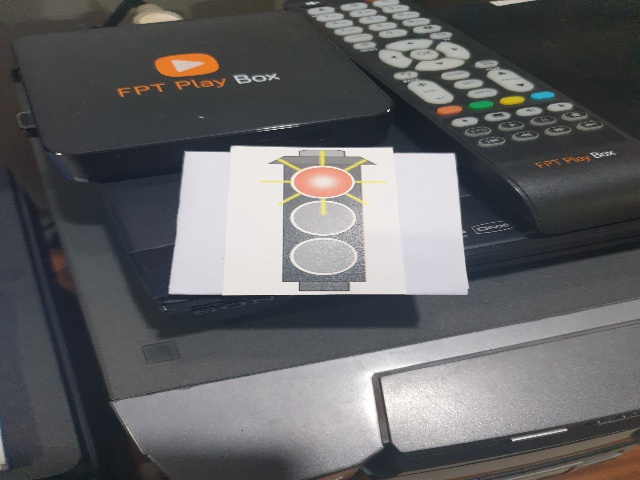Red Light: (257, 150, 389, 292)
